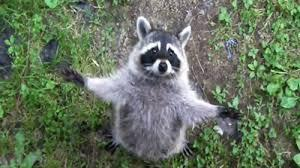raccoon: (44, 13, 246, 164)
